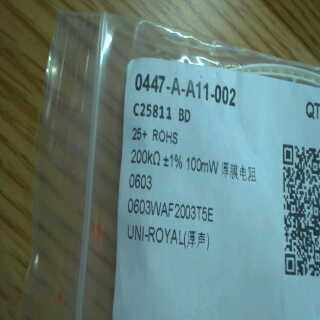200kR: (127, 146, 163, 169)
